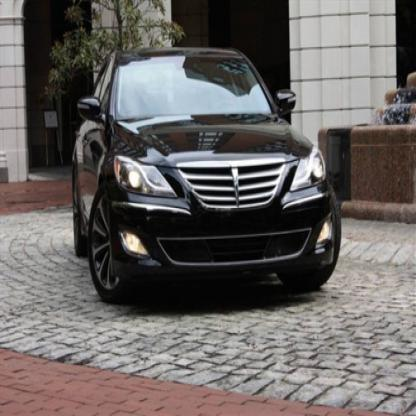Vehicle: (73, 50, 342, 309)
